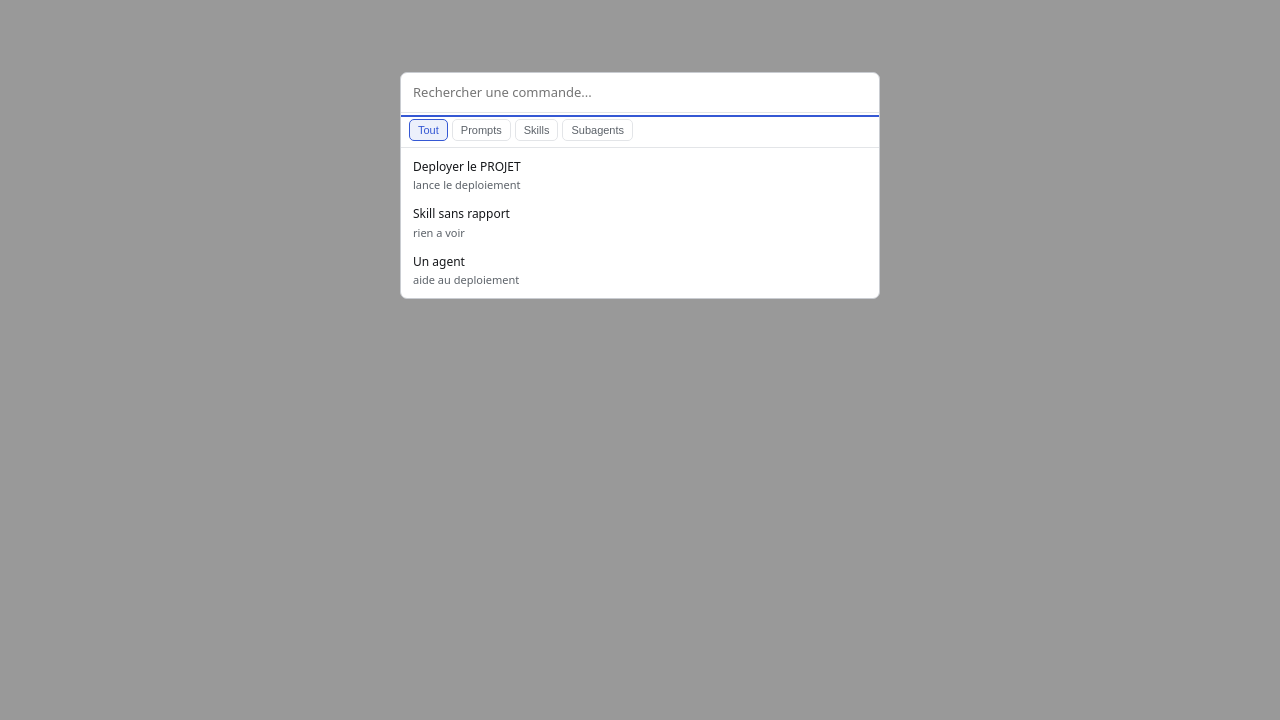
Test: la recherche filtre par sous-chaine insensible a la casse sur label et description, tous types confondus
In the field labelled "Rechercher une commande...": x=640, y=93 [401,73,879,113], type "deploi"
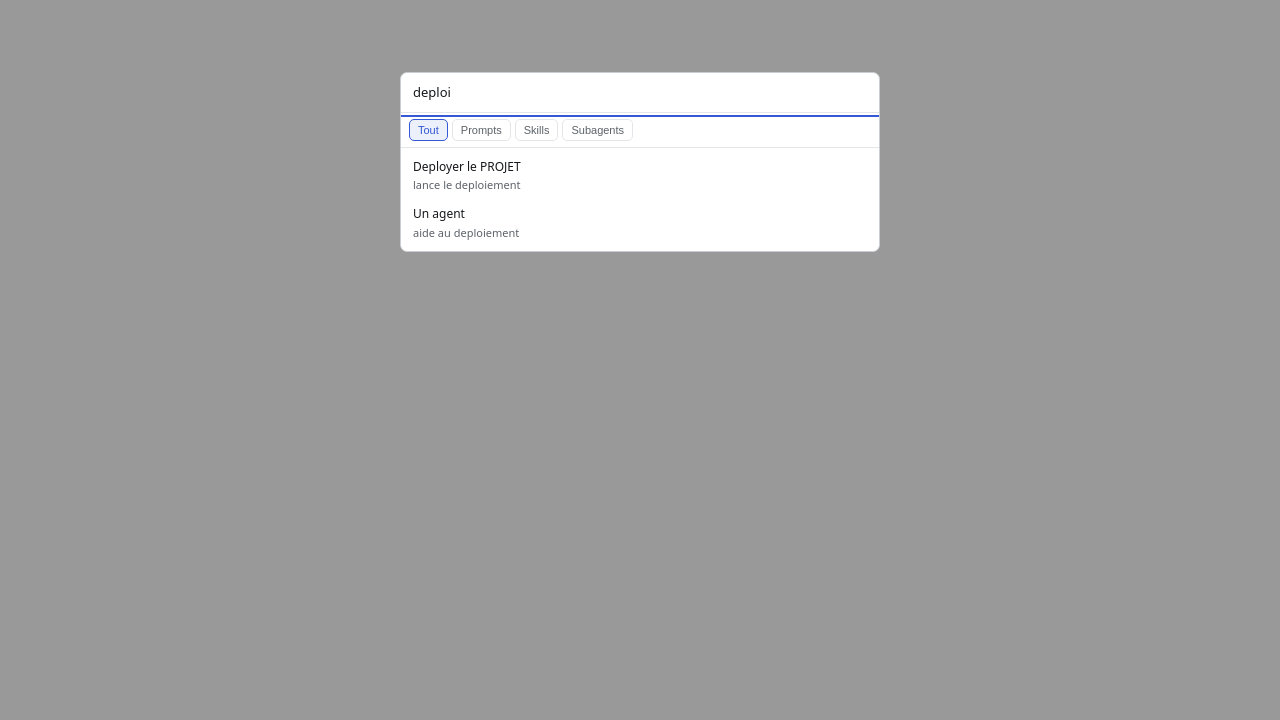
Expected: the text "Deployer le PROJET" is shown, [413,158,521,175]
Now the option "Skill sans rapport" is gone
